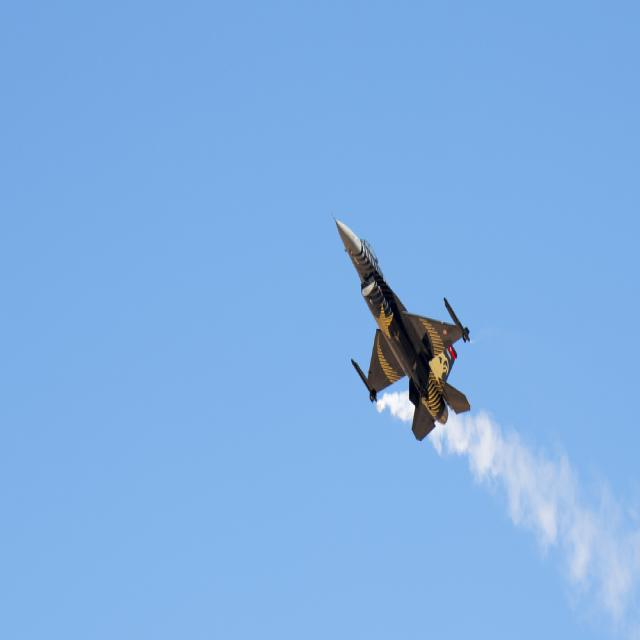MIL_Plane: (331, 211, 470, 441)
